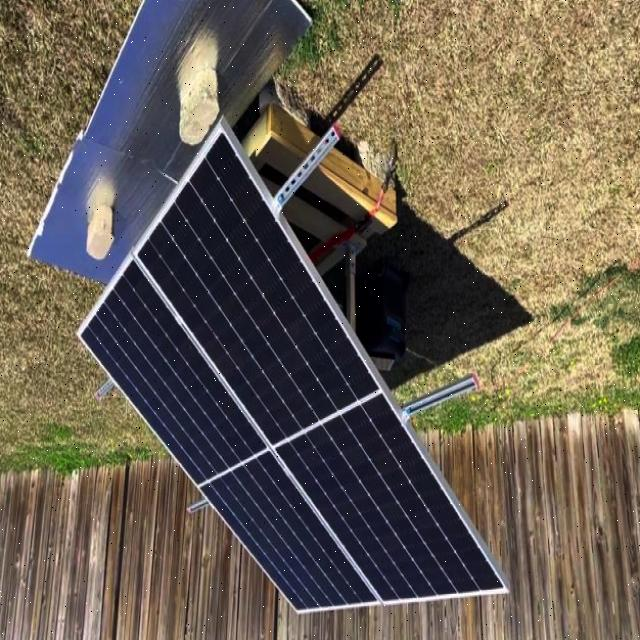Normal Solar Panel: (78, 120, 506, 610)
